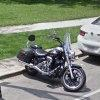Motorcycle: (7, 32, 94, 99)
